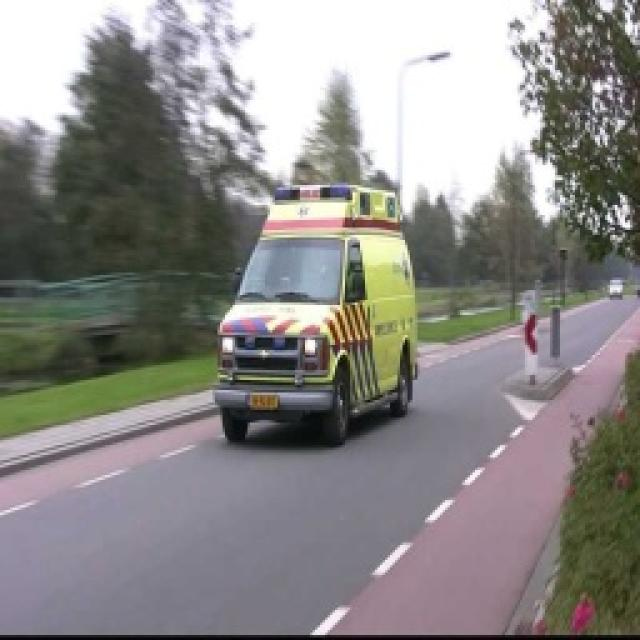emergency-vehicle: (215, 183, 418, 440)
